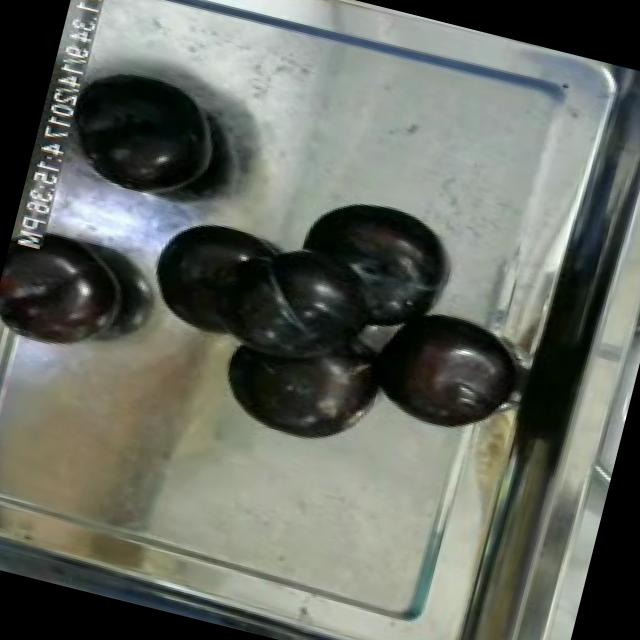Fruit: (274, 174, 466, 342), (55, 52, 236, 217), (354, 292, 532, 444), (204, 316, 392, 458), (128, 200, 294, 354), (0, 227, 143, 370)
